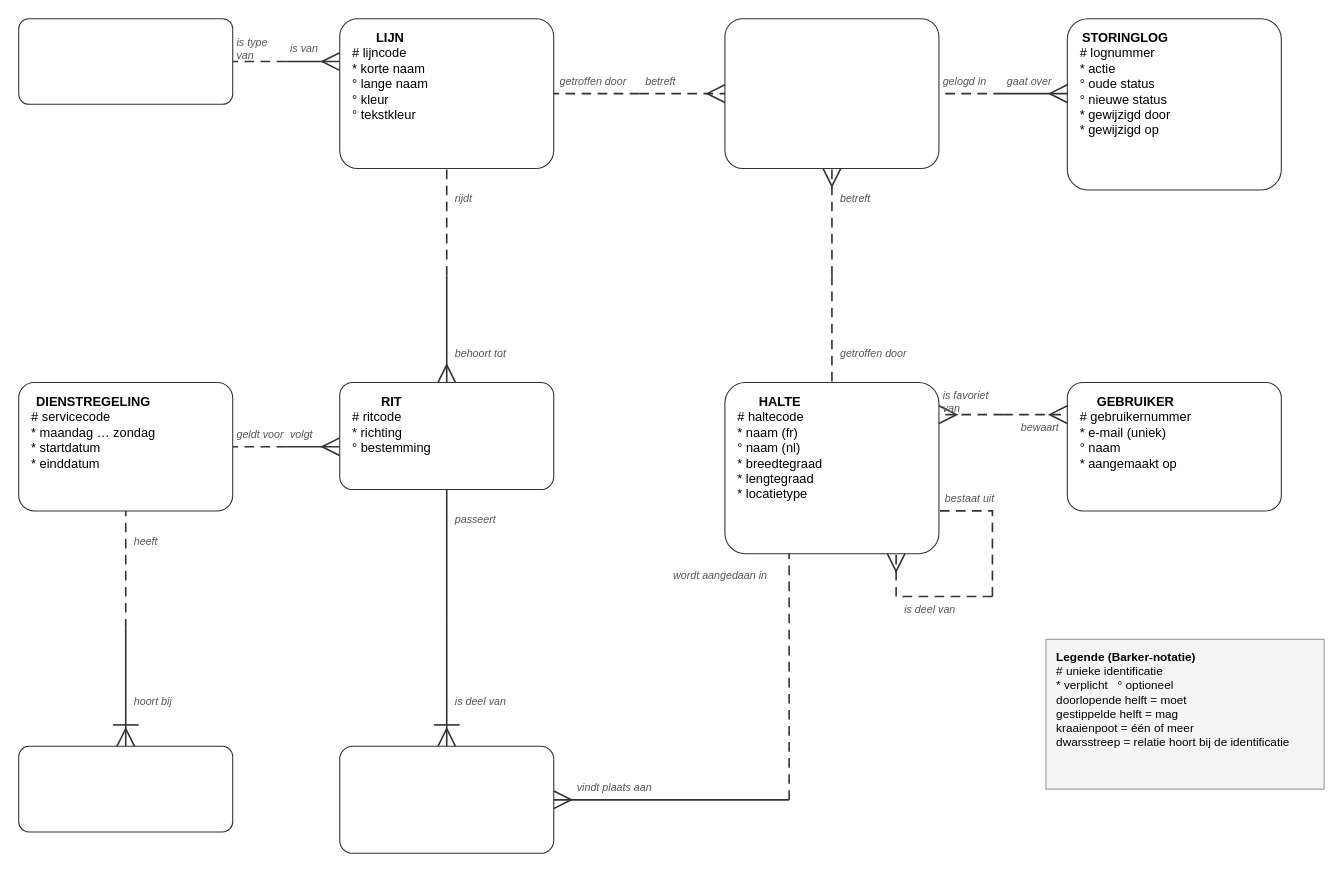
Some shapes in this 1343 by 872 pixel diagram are drawn without their labels. Each missing label, with the centre of its shape:
DOORTOCHT # volgnummer * aankomsttijd * vertrektijd: (446,799)
STORING # storingnummer * omschrijving * starttijd ° eindtijd * status: (831,93)
UITZONDERING # datum * type: (125,788)
VERVOERSTYPE # code * naam: (125,61)
